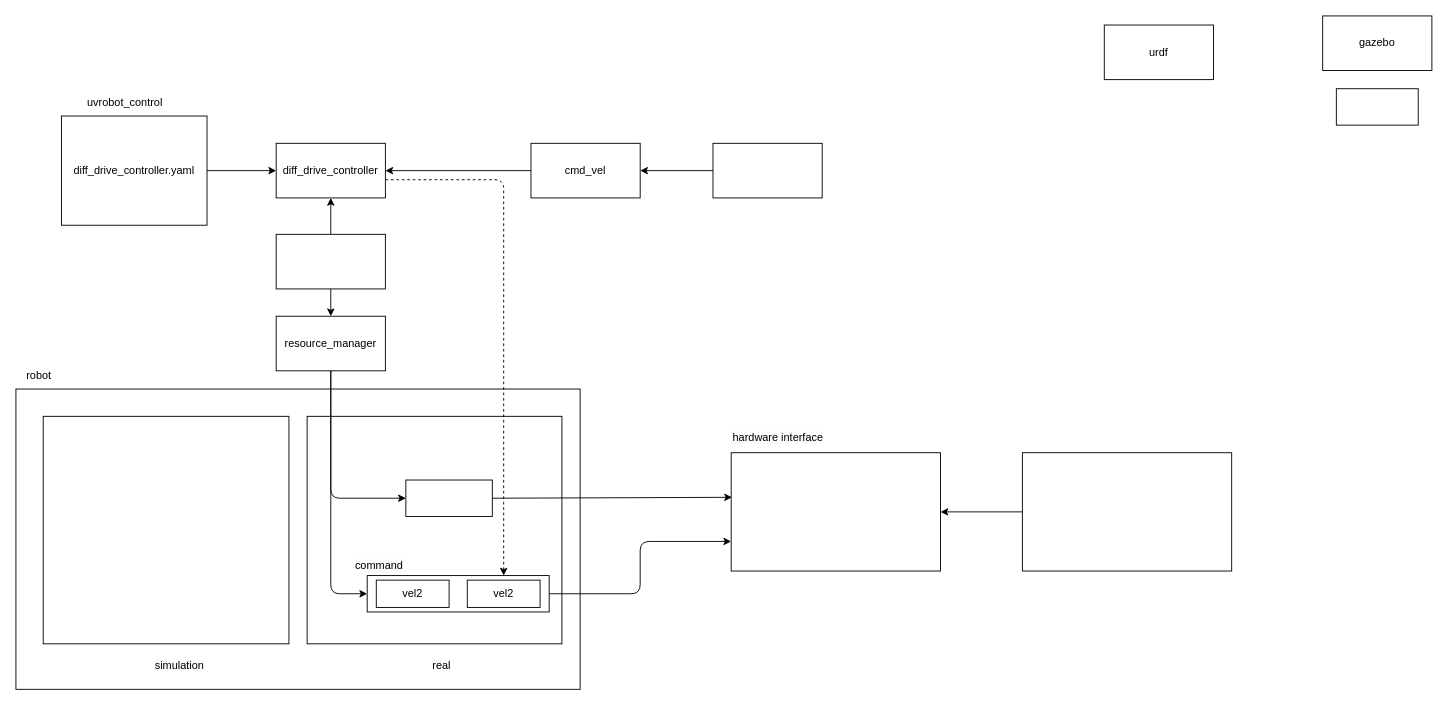
This 1448x705 diagram has some shape labels left out. The shapes that lost their labels are listed below. From the top down, each one's box as (x1, y1, x2, y2) in pixels, then its label:
(1335, 88, 1418, 125): ros diff
(275, 233, 385, 289): controller manager
(405, 479, 492, 516): state
(1021, 452, 1232, 571): hardware
